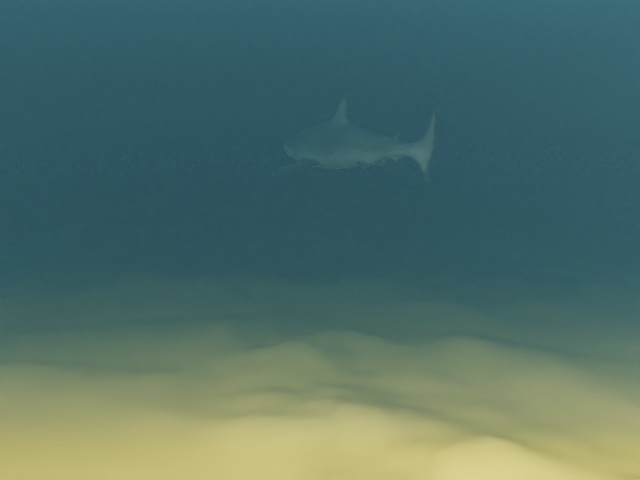Carribean Shark.001: (272, 92, 440, 182)
